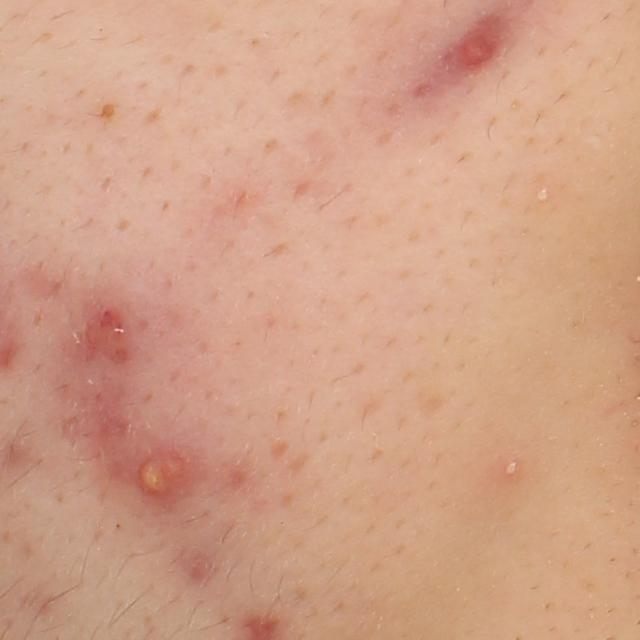atrophic_scar: (86, 306, 138, 373)
comedo: (95, 98, 120, 126)
pustule: (134, 444, 207, 505), (502, 456, 522, 480)
